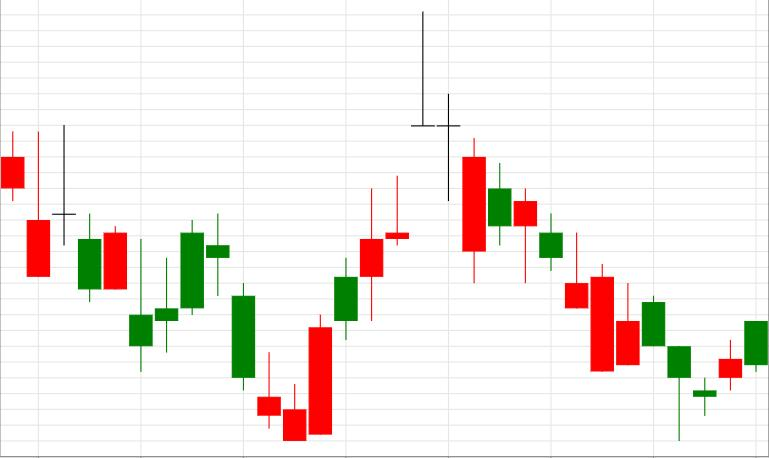hammer_rise: (488, 162, 691, 441)
